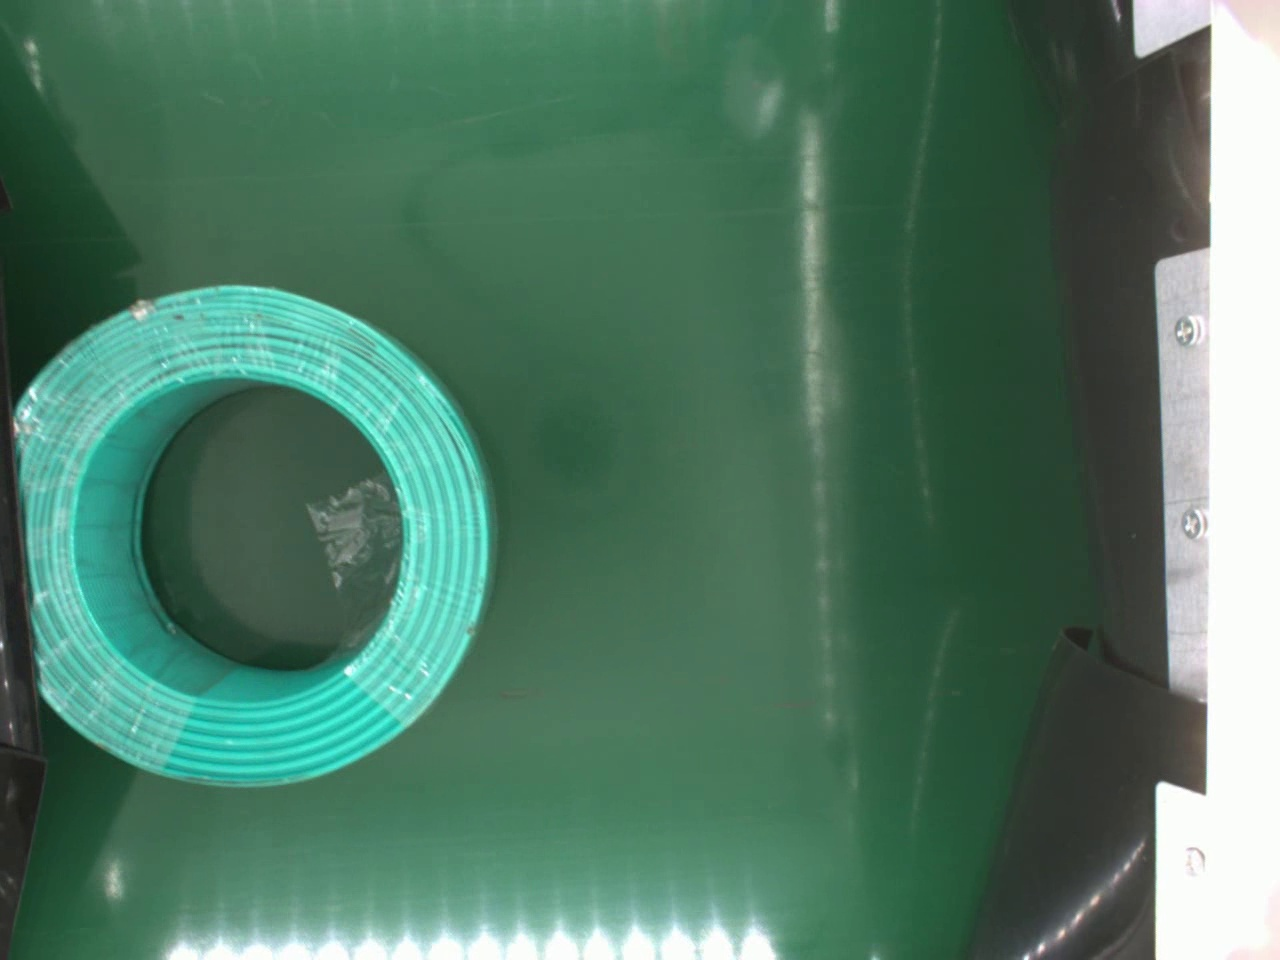green: (11, 279, 493, 789)
